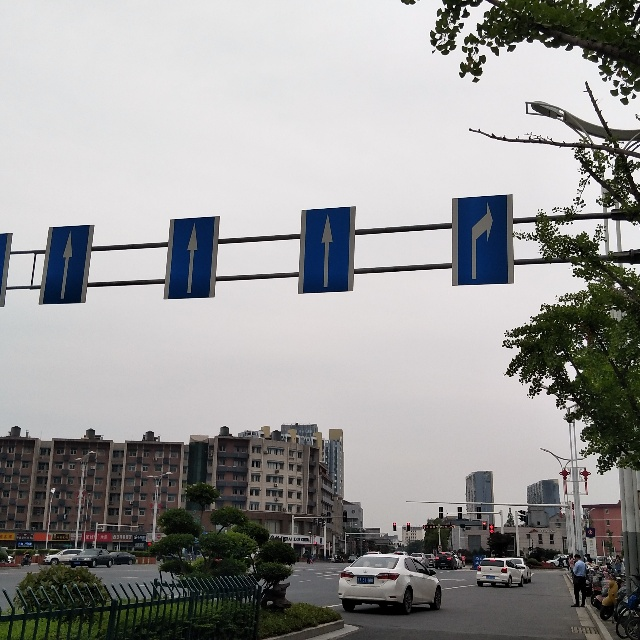right: (452, 192, 508, 287)
straight: (303, 211, 352, 293), (173, 216, 208, 298), (51, 226, 83, 300)
